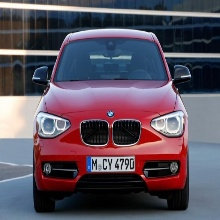no damage: (32, 30, 194, 212)
